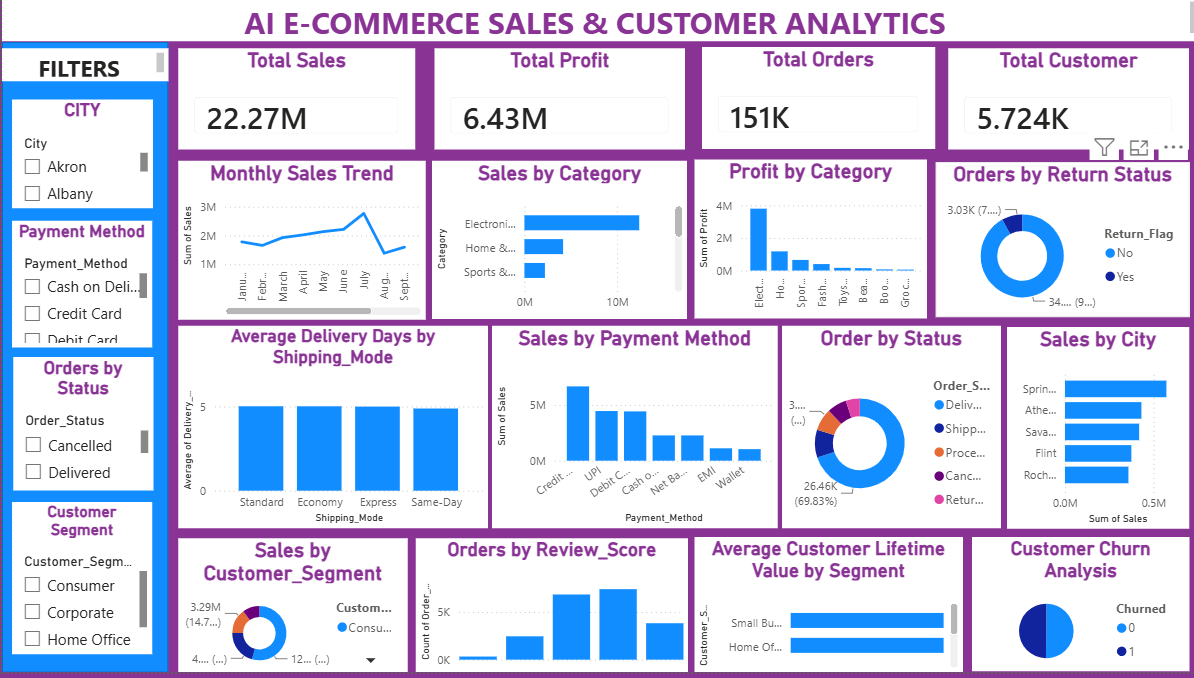

The dashboard page shown, as its layout file describes it:
{"tool":"powerbi","page":{"name":"Page 1","canvas":[1280,720],"ordinal":0},"visuals":[{"type":"cardVisual","title":"Total Sales ","fields":{"Data":["Sum(ecommerce_flat_analytics_table.Sales)"]},"box":[188,54.6,252.8,108.3],"z":0},{"type":"cardVisual","title":"Total Profit ","fields":{"Data":["Sum(ecommerce_flat_analytics_table.Profit)"]},"box":[461.9,54.5,267.6,108.3],"z":1000},{"type":"cardVisual","title":"Total Orders ","fields":{"Data":["Sum(ecommerce_flat_analytics_table.Total_Orders)"]},"box":[747.3,53.3,248.7,109],"z":2000},{"type":"cardVisual","title":"Total Customer ","fields":{"Data":["Count(ecommerce_flat_analytics_table.Customer_ID)"]},"box":[1009.7,54.2,256.9,108.3],"z":3000},{"type":"lineChart","title":"Monthly Sales Trend ","fields":{"Category":["ecommerce_flat_analytics_table.Order_Date.Variation.Date Hierarchy.Month"],"Y":["Sum(ecommerce_flat_analytics_table.Sales)"]},"box":[188,174.1,263.9,169.4],"z":4000},{"type":"clusteredBarChart","title":"Sales by Category","fields":{"Y":["Sum(ecommerce_flat_analytics_table.Sales)"],"Category":["ecommerce_flat_analytics_table.Category"]},"box":[459.3,174.1,272.2,168.5],"z":5000},{"type":"clusteredColumnChart","title":" Profit by Category","fields":{"Category":["ecommerce_flat_analytics_table.Category"],"Y":["Sum(ecommerce_flat_analytics_table.Profit)"]},"box":[738.9,173.1,248.1,169.4],"z":6000},{"type":"donutChart","title":"Sales by Customer_Segment","fields":{"Category":["ecommerce_flat_analytics_table.Customer_Segment"],"Y":["Sum(ecommerce_flat_analytics_table.Sales)"]},"box":[188,576.9,244.4,143.5],"z":7000},{"type":"clusteredColumnChart","title":"Sales by Payment Method","fields":{"Category":["ecommerce_flat_analytics_table.Payment_Method"],"Y":["Sum(ecommerce_flat_analytics_table.Sales)"]},"box":[523.1,350.9,304.6,215.7],"z":8000},{"type":"donutChart","title":"Order by Status","fields":{"Category":["ecommerce_flat_analytics_table.Order_Status"],"Y":["CountNonNull(ecommerce_flat_analytics_table.Order_ID)"]},"box":[832.4,350.9,233.3,215.7],"z":9000},{"type":"donutChart","title":" Orders by Return Status ","fields":{"Category":["ecommerce_flat_analytics_table.Return_Flag"],"Y":["CountNonNull(ecommerce_flat_analytics_table.Order_ID)"]},"box":[995.8,176.4,270.8,165.3],"z":10000},{"type":"clusteredBarChart","title":" Sales by City","fields":{"Y":["Sum(ecommerce_flat_analytics_table.Sales)"],"Category":["ecommerce_flat_analytics_table.City"]},"box":[1072.2,351.4,194.4,215.3],"z":11000},{"type":"columnChart","title":"Average Delivery Days by Shipping_Mode","fields":{"Category":["ecommerce_flat_analytics_table.Shipping_Mode"],"Y":["Avg(ecommerce_flat_analytics_table.Delivery_Days)"]},"box":[188,350.9,330.6,215.7],"z":12000},{"type":"clusteredBarChart","title":"Average  Customer  Lifetime  Value by Segment","fields":{"Category":["ecommerce_flat_analytics_table.Customer_Segment"],"Y":["Avg(ecommerce_flat_analytics_table.Customer_Lifetime_Value)"]},"box":[738.9,575.9,286.1,144.4],"z":13000},{"type":"pieChart","title":" Customer Churn Analysis","fields":{"Y":["CountNonNull(ecommerce_flat_analytics_table.Customer_ID)"],"Category":["ecommerce_flat_analytics_table.Churned"]},"box":[1034.7,576.4,231.9,143.1],"z":14000},{"type":"clusteredColumnChart","title":"Orders by Review_Score","fields":{"Category":["ecommerce_flat_analytics_table.Review_Score"],"Y":["CountNonNull(ecommerce_flat_analytics_table.Order_ID)"]},"box":[440.7,576.9,290.7,143.5],"z":15000},{"type":"textbox","box":[0,0,1280.6,47.2],"z":16000},{"type":"shape","box":[0,47.7,177.3,672.6],"z":17000},{"type":"textbox","box":[0,54.8,177.6,42.9],"z":18000},{"type":"slicer","title":"CITY ","fields":{"Values":["ecommerce_flat_analytics_table.City"]},"box":[10.2,109.3,150,115.7],"z":19000},{"type":"slicer","title":"Payment Method ","fields":{"Values":["ecommerce_flat_analytics_table.Payment_Method"]},"box":[10.7,239.2,149.2,135],"z":20000},{"type":"slicer","title":"Orders by Status ","fields":{"Values":["ecommerce_flat_analytics_table.Order_Status"]},"box":[11.8,383.7,149.2,142.1],"z":21000},{"type":"slicer","title":"Customer Segment ","fields":{"Values":["ecommerce_flat_analytics_table.Customer_Segment"]},"box":[10.7,538.9,149.2,162.3],"z":22000}]}

Visuals, with their boxes in screenshot pixels (x1, y1, x2, y2), scaled from the page's 1280x720 canvas onto the 1194x678 screenshot:
"Total Sales " cardVisual: x1=175 y1=51 x2=411 y2=153
"Total Profit " cardVisual: x1=431 y1=51 x2=680 y2=153
"Total Orders " cardVisual: x1=697 y1=50 x2=929 y2=153
"Total Customer " cardVisual: x1=942 y1=51 x2=1182 y2=153
"Monthly Sales Trend " lineChart: x1=175 y1=164 x2=422 y2=323
"Sales by Category" clusteredBarChart: x1=428 y1=164 x2=682 y2=323
" Profit by Category" clusteredColumnChart: x1=689 y1=163 x2=921 y2=323
"Sales by Customer_Segment" donutChart: x1=175 y1=543 x2=403 y2=677
"Sales by Payment Method" clusteredColumnChart: x1=488 y1=330 x2=772 y2=534
"Order by Status" donutChart: x1=776 y1=330 x2=994 y2=534
" Orders by Return Status " donutChart: x1=929 y1=166 x2=1182 y2=322
" Sales by City" clusteredBarChart: x1=1000 y1=331 x2=1182 y2=534
"Average Delivery Days by Shipping_Mode" columnChart: x1=175 y1=330 x2=484 y2=534
"Average  Customer  Lifetime  Value by Segment" clusteredBarChart: x1=689 y1=542 x2=956 y2=677
" Customer Churn Analysis" pieChart: x1=965 y1=543 x2=1182 y2=677
"Orders by Review_Score" clusteredColumnChart: x1=411 y1=543 x2=682 y2=677
textbox: x1=0 y1=0 x2=1193 y2=44
shape: x1=0 y1=45 x2=165 y2=677
textbox: x1=0 y1=52 x2=166 y2=92
"CITY " slicer: x1=10 y1=103 x2=149 y2=212
"Payment Method " slicer: x1=10 y1=225 x2=149 y2=352
"Orders by Status " slicer: x1=11 y1=361 x2=150 y2=495
"Customer Segment " slicer: x1=10 y1=507 x2=149 y2=660
